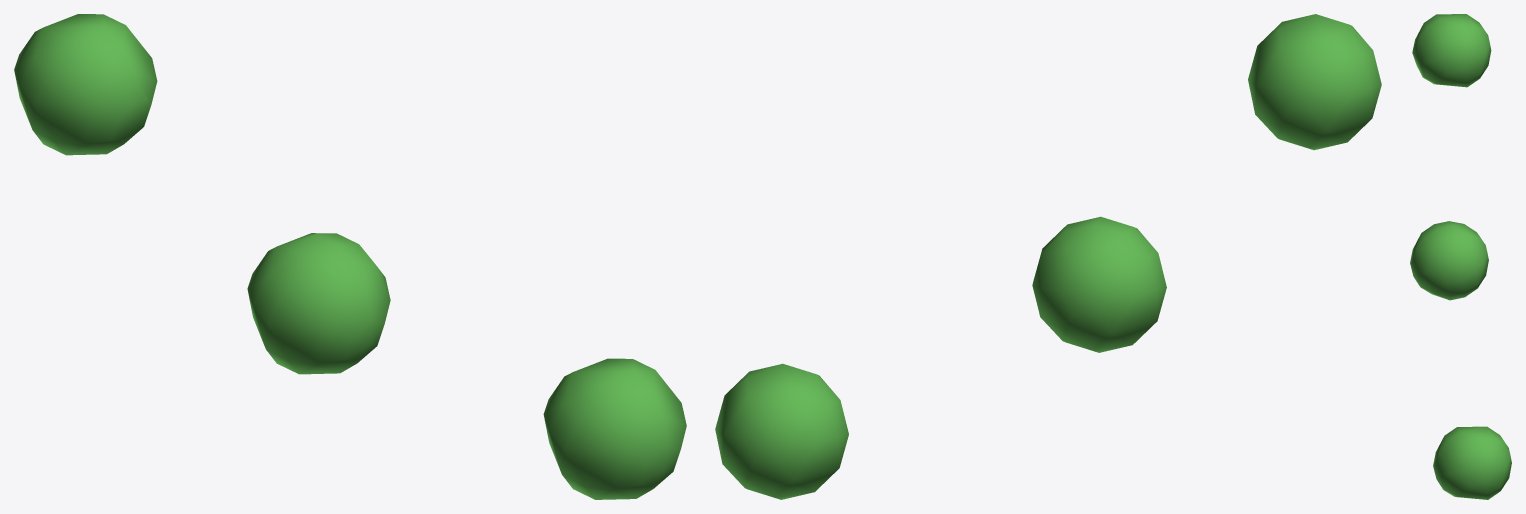
Rendered from linfatico-superolateral-superficial-inguinal-nodes-r.glb.
3 renders of one model, left to right at view 1: azimuth 30°, elevation 25°; view 2: azimuth 150°, elevation 25°; view 3: azimuth 270°, elevation 25°, orthographic. The views are drawn at different scales.
Parts seen in each view (by area): view 1: Superolateral superficial inguinal nodes.r; view 2: Superolateral superficial inguinal nodes.r; view 3: Superolateral superficial inguinal nodes.r.
Boxes of the visible parts, x1,y1,x2,y2 form: Superolateral superficial inguinal nodes.r: (14,14,686,499); Superolateral superficial inguinal nodes.r: (715,14,1381,499); Superolateral superficial inguinal nodes.r: (1410,14,1511,499).
Size of the model in its own units: 0.0138 by 0.0121 by 0.00334.
